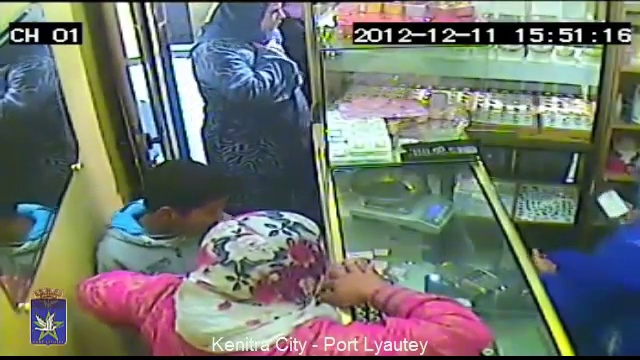face: (170, 188, 224, 228), (251, 0, 291, 27)
